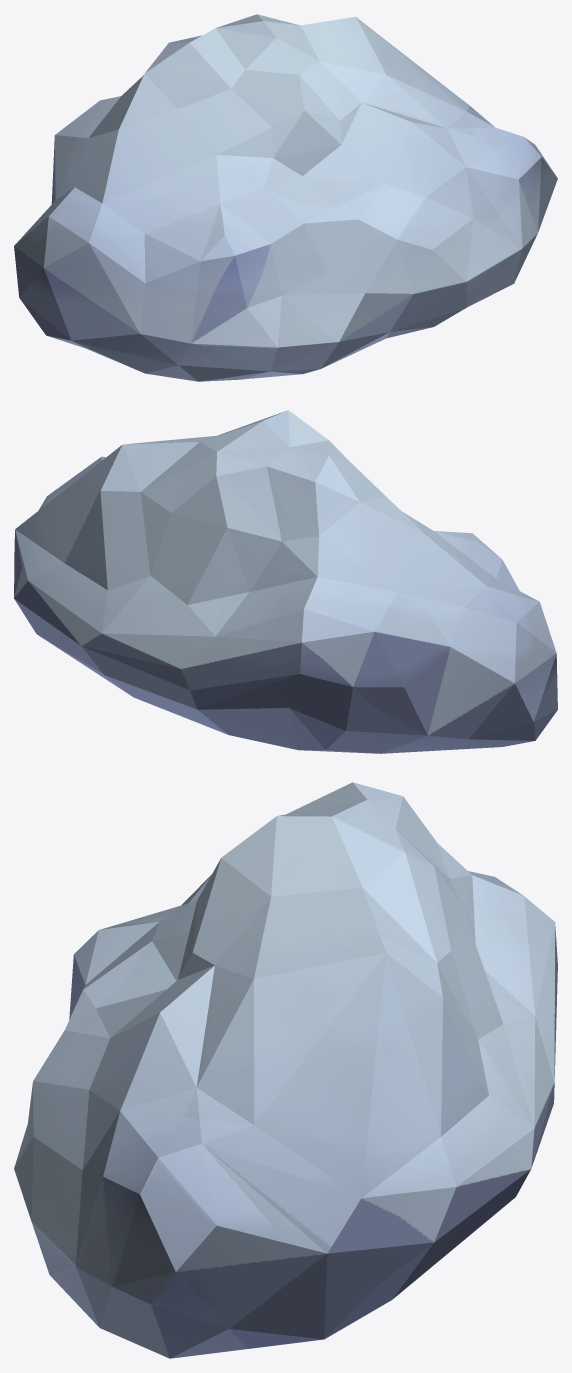
File: cloud.glb
3 views of the same model, one above another, from view 1: azimuth 30°, elevation 25°; view 2: azimuth 150°, elevation 25°; view 3: azimuth 270°, elevation 25° (orthographic). The views are drawn at different scales.
Parts seen in each view (by area): view 1: model; view 2: model; view 3: model.
Boxes of the visible parts, x1=… form: model: x1=14, y1=14, x2=557, y2=381; model: x1=14, y1=410, x2=557, y2=753; model: x1=14, y1=782, x2=557, y2=1358.
Size of the model in its own units: 5.79 by 3.23 by 3.65.
1 material, 1 textured.
